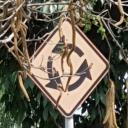Rotatoria: (24, 16, 110, 118)
